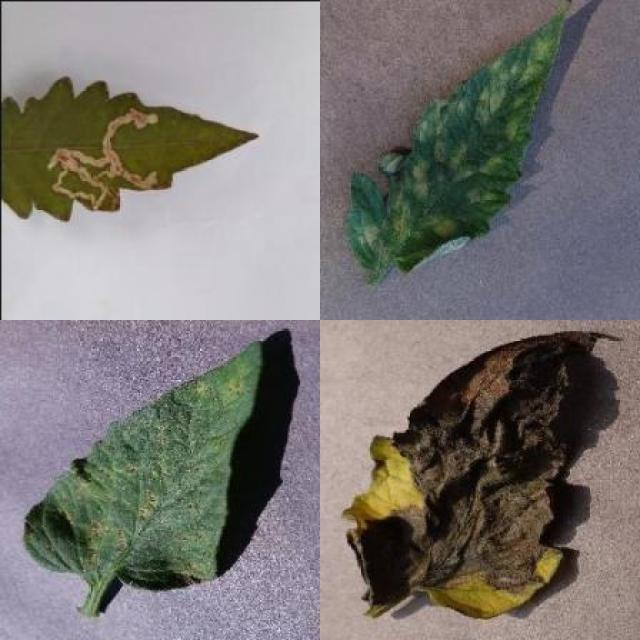Late Blight: (338, 328, 602, 622)
Leaf Miner: (0, 73, 261, 223)
Leaf Mold: (344, 2, 570, 272)
Septoria: (21, 337, 262, 593)
